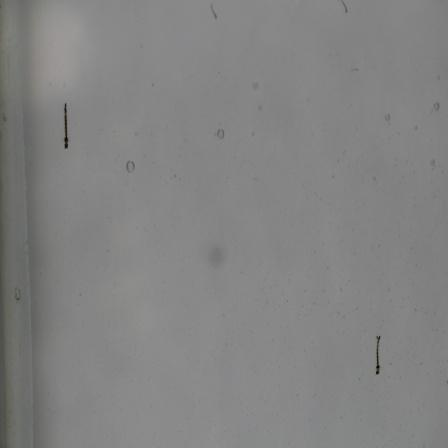Jentik-Nyamuk: (58, 98, 73, 153), (371, 330, 384, 382)
